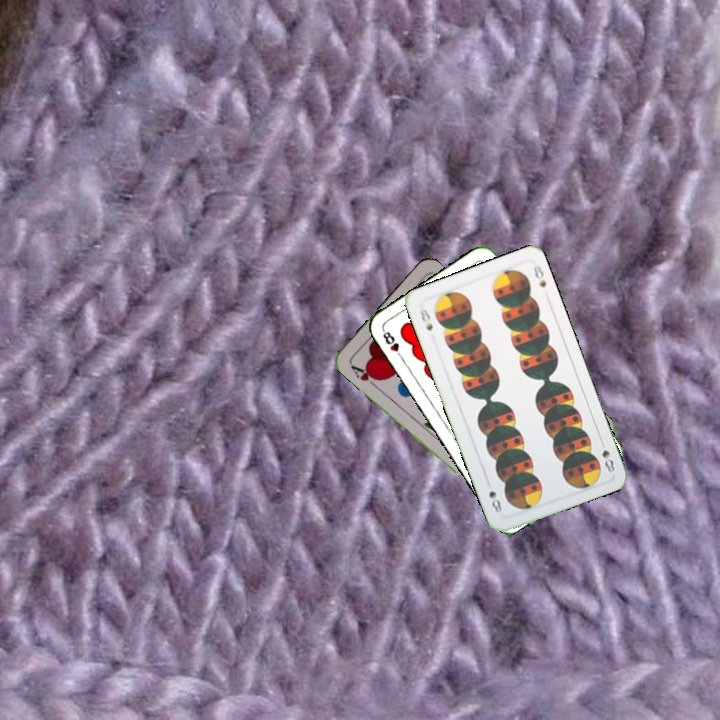H8: (378, 325, 406, 362)
HA: (346, 361, 382, 391)
S8: (596, 436, 617, 475), (416, 304, 435, 334)
